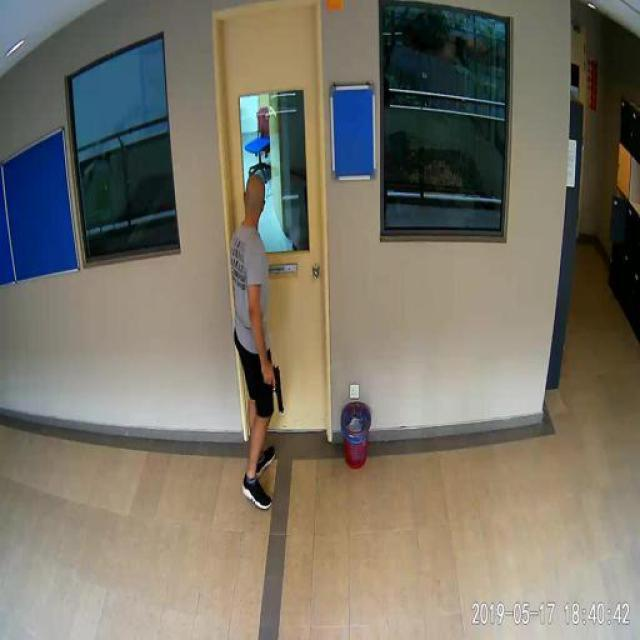weapon: (272, 366, 286, 414)
